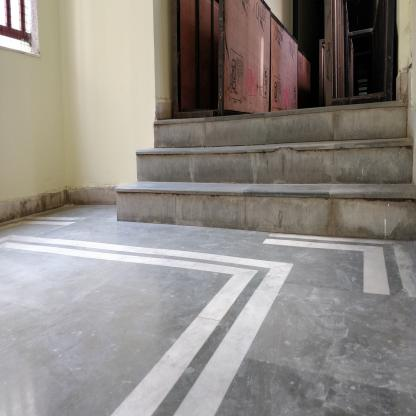stairs: (161, 113, 398, 239)
